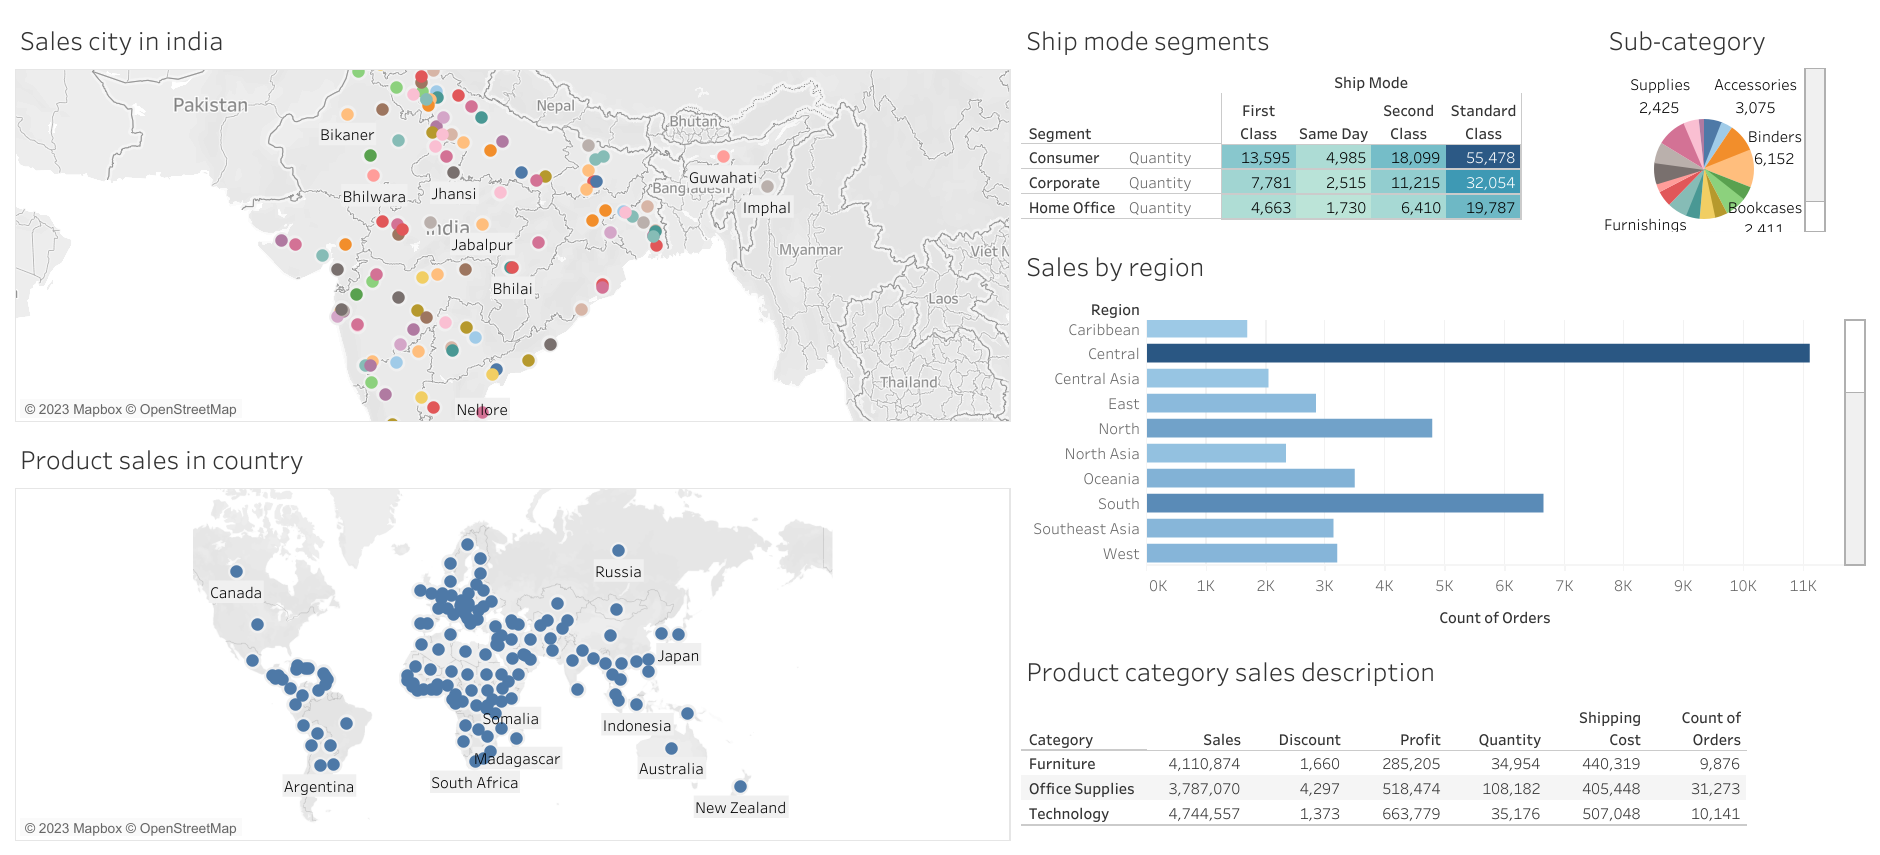

What the dashboard file says about the page in this screenshot:
{"tool":"tableau","page":{"name":"Dashboard 1","canvas":[1000,1000],"units":"permille","ordinal":0},"visuals":[{"type":"worksheet","title":"Sales city in india","mark":"Automatic","box":[6,10.3,534.3,489.7]},{"type":"worksheet","title":"Ship mode segments","mark":"Square","rows":["Segment"],"cols":["Ship Mode"],"box":[540.4,10.3,308.7,264.5]},{"type":"worksheet","title":"Sub-category","mark":"Pie","box":[849.1,10.3,144.9,264.5]},{"type":"worksheet","title":"Sales by region","mark":"Automatic","rows":["Region"],"cols":["Orders_2ACEEE7E06F1476E9F6C7AEF6F50CACE"],"box":[540.4,274.8,453.6,474.8]},{"type":"worksheet","title":"Product sales in country","mark":"Automatic","box":[6,500,534.3,489.7]},{"type":"worksheet","title":"Product category sales description","mark":"Automatic","rows":["Category"],"box":[540.4,749.7,453.6,240]}]}

Visuals, with their boxes on the dashboard's canvas, which has no fixed pixel size, in thousandths of its width and height (x1, y1, x2, y2). These are canvas units, not pixel positions in the 1880x855 screenshot, which may show the page scaled, cropped or inside an application window:
"Sales city in india" worksheet: 6:10:540:500
"Ship mode segments" worksheet (Square marks): 540:10:849:275
"Sub-category" worksheet (Pie marks): 849:10:994:275
"Sales by region" worksheet: 540:275:994:750
"Product sales in country" worksheet: 6:500:540:990
"Product category sales description" worksheet: 540:750:994:990
